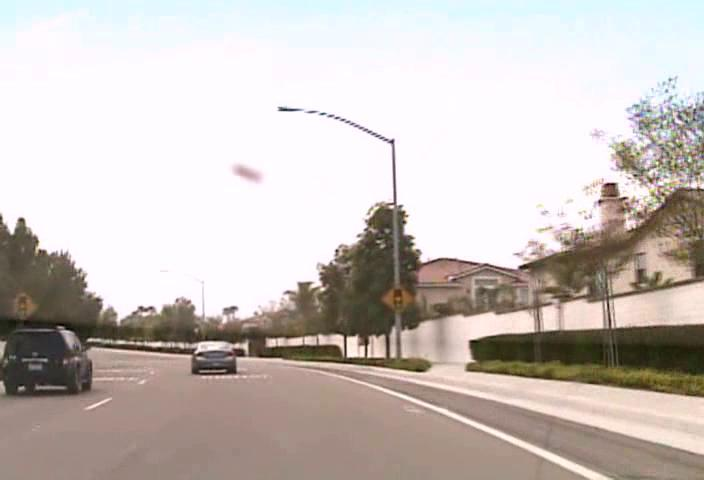signalAhead: (380, 282, 414, 315)
